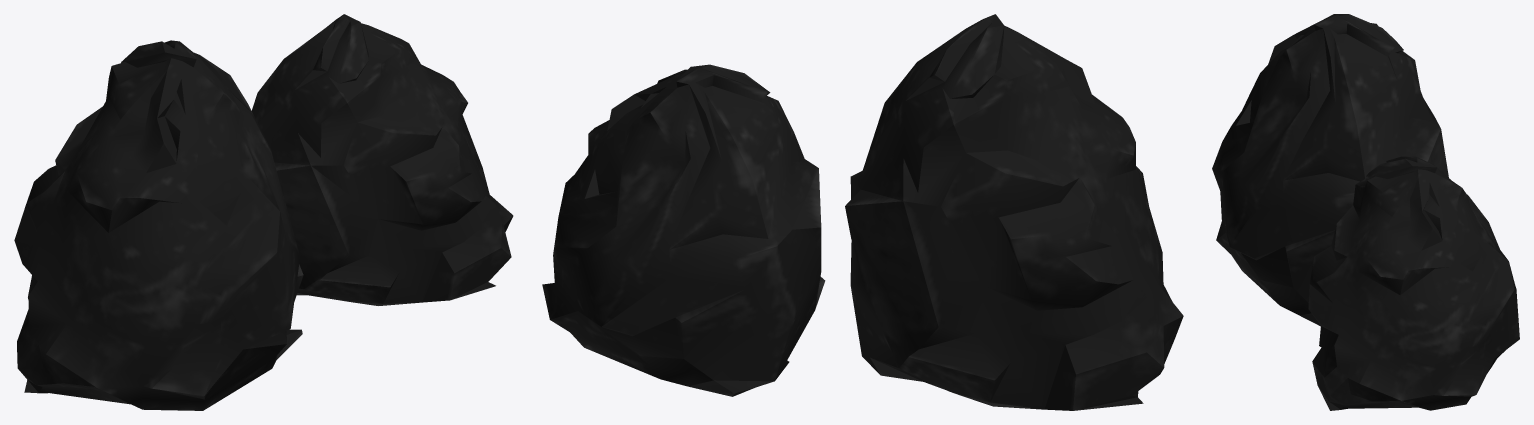
File: TrashBags.fbx
3 views of the same model, side by side, from view 1: azimuth 30°, elevation 25°; view 2: azimuth 150°, elevation 25°; view 3: azimuth 270°, elevation 25° (orthographic). The views are drawn at different scales.
Parts seen in each view (by area): view 1: TrashBags; view 2: TrashBags; view 3: TrashBags.
Part boxes in pixels (box(x1,y1,x2,y2)): TrashBags: box(14, 14, 513, 410); TrashBags: box(542, 14, 1183, 410); TrashBags: box(1212, 14, 1519, 410).
Size of the model in its own units: 0.9674 by 0.5747 by 0.596.
